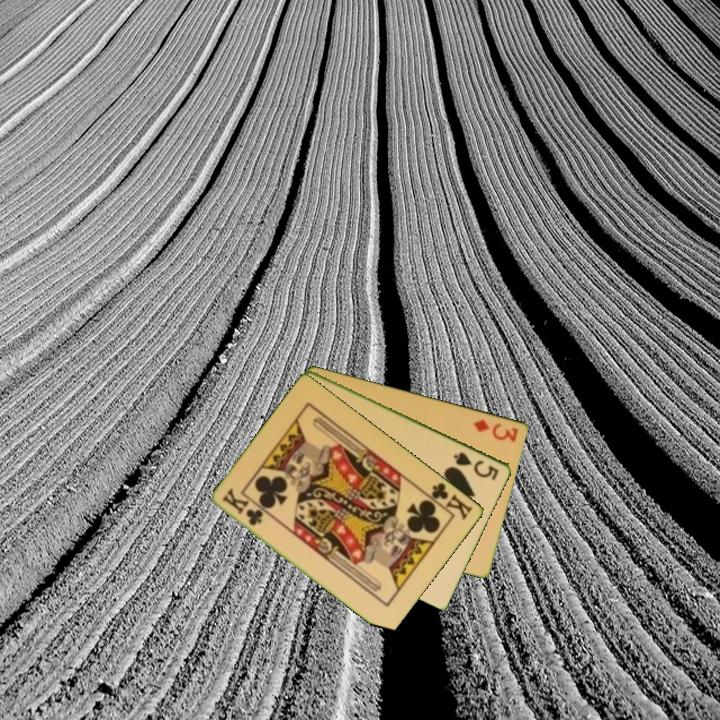3d: (470, 416, 521, 445)
5s: (450, 448, 502, 484)
Kc: (422, 479, 476, 523), (219, 486, 266, 529)
